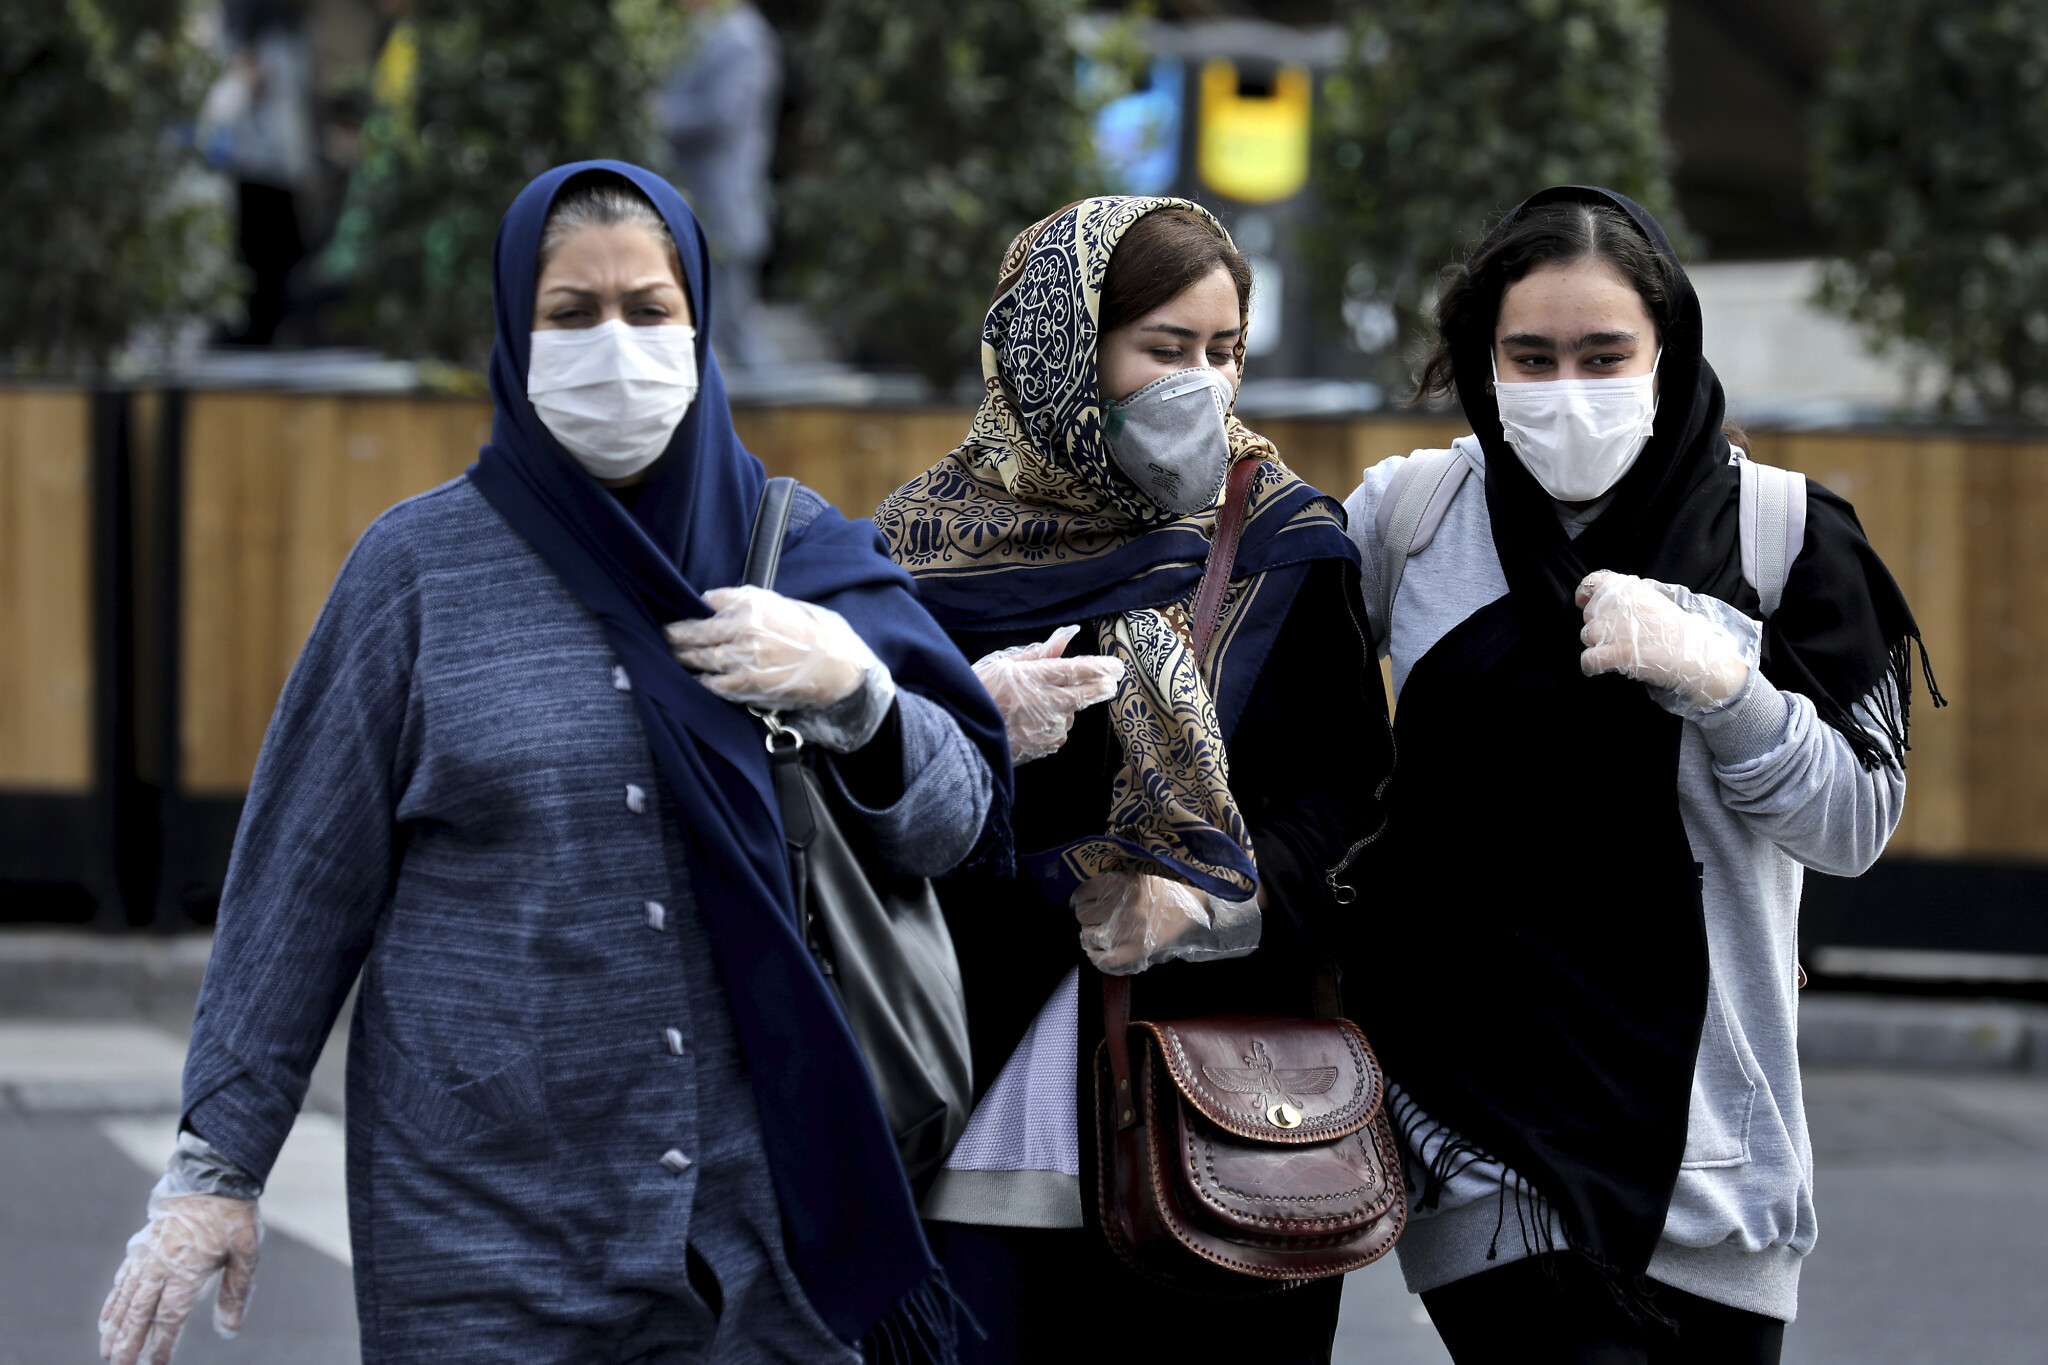with_mask: (543, 250, 699, 474), (1488, 315, 1662, 509), (1100, 314, 1264, 499)
